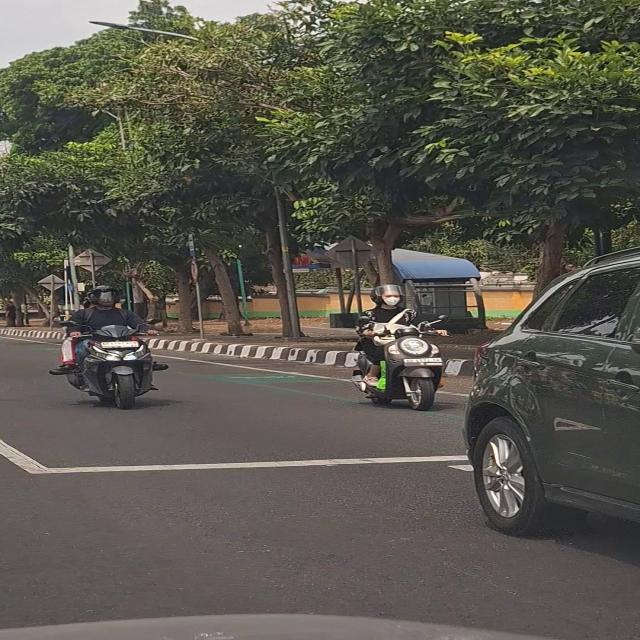WithHelmet: (49, 285, 168, 377), (353, 284, 449, 383)
